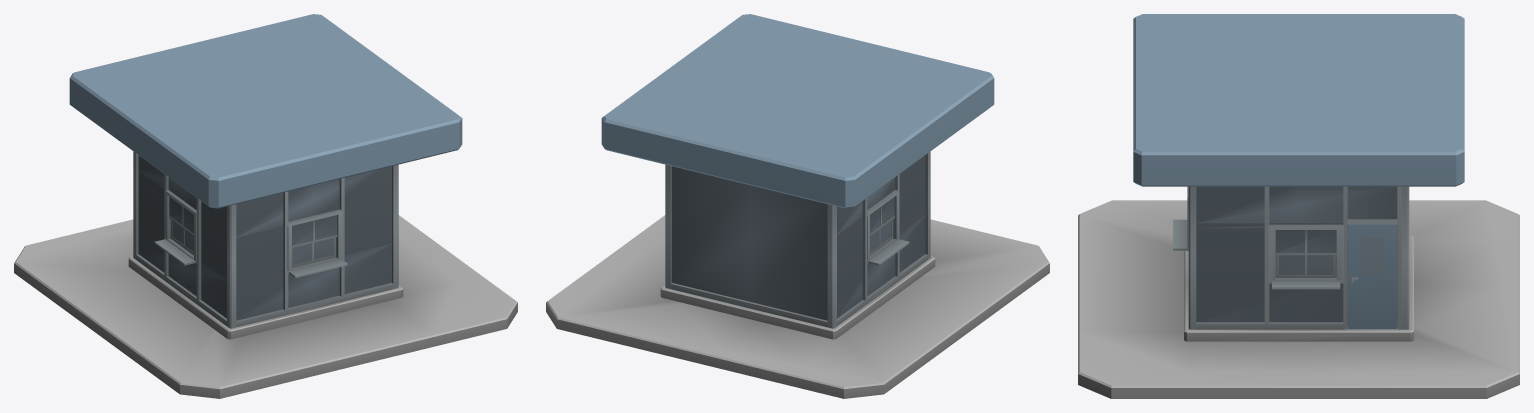
File: gatehouse.glb
3 renders of one model, left to right at view 1: azimuth 30°, elevation 25°; view 2: azimuth 150°, elevation 25°; view 3: azimuth 270°, elevation 25°, orthographic. The views are drawn at different scales.
Parts seen in each view (by area): view 1: gatehouse.001; view 2: gatehouse.001; view 3: gatehouse.001.
Boxes of the visible parts, x1,y1,x2,y2 form: gatehouse.001: [14, 14, 517, 398]; gatehouse.001: [546, 14, 1049, 398]; gatehouse.001: [1078, 14, 1519, 398].
Size of the model in its own units: 8 by 4.45 by 8.
